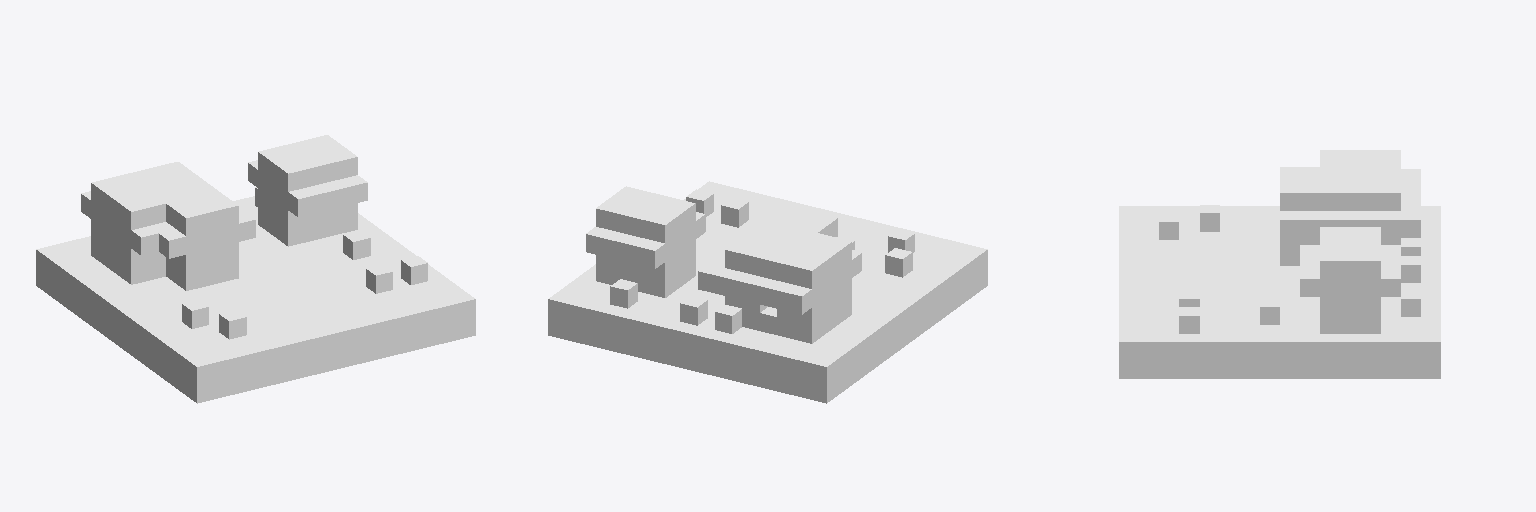
Rendered from Road_village_1.obj.
3 renders of one model, left to right at view 1: azimuth 30°, elevation 25°; view 2: azimuth 150°, elevation 25°; view 3: azimuth 270°, elevation 25°, orthographic.
Visible parts, largest first — view 1: object 1; view 2: object 1; view 3: object 1.
Part boxes in pixels (bbox=[...]): object 1: bbox=[36, 135, 475, 403]; object 1: bbox=[548, 181, 987, 403]; object 1: bbox=[1119, 150, 1440, 378].
Size of the model in its own units: 1.6 by 0.6 by 1.6.